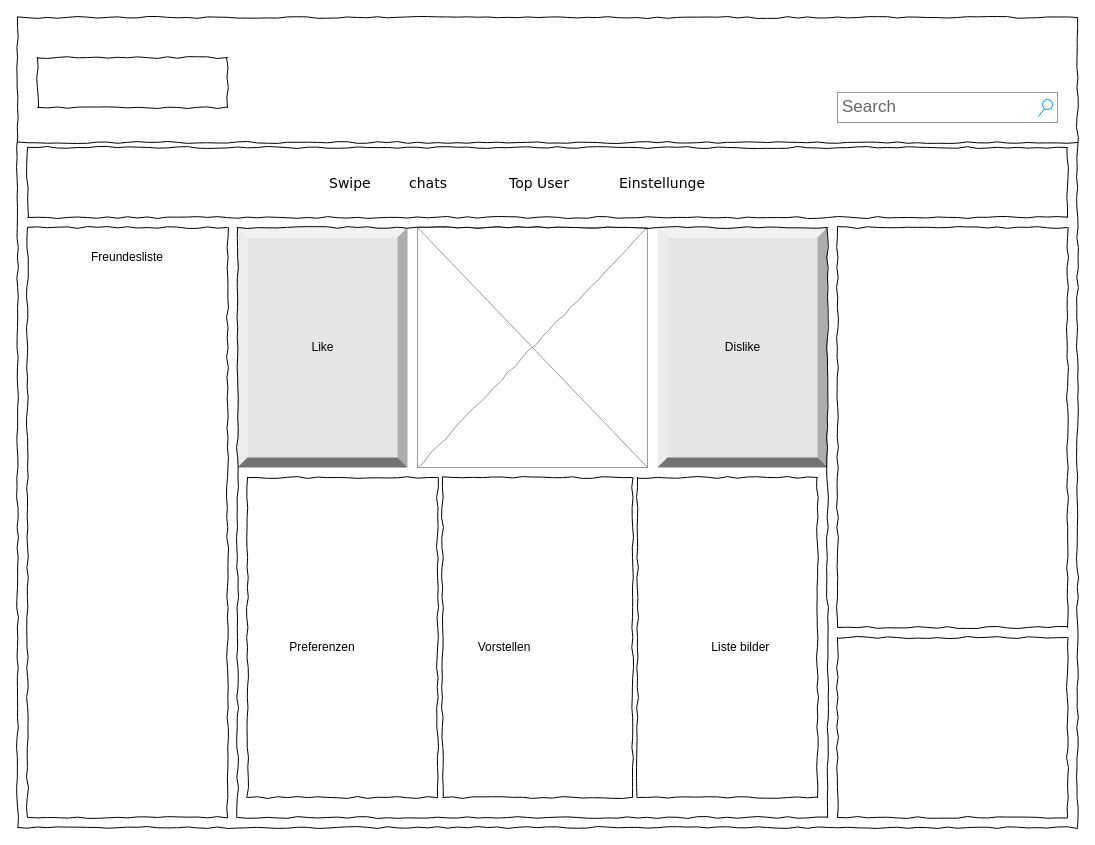
This 1095x845 diagram has some shape labels left out. Each missing label, with the centre of its shape:
Kürzlich erhaltene Nachrichten: (952,727)
LOGO: (132,82)
Nutzer online: (952,427)
